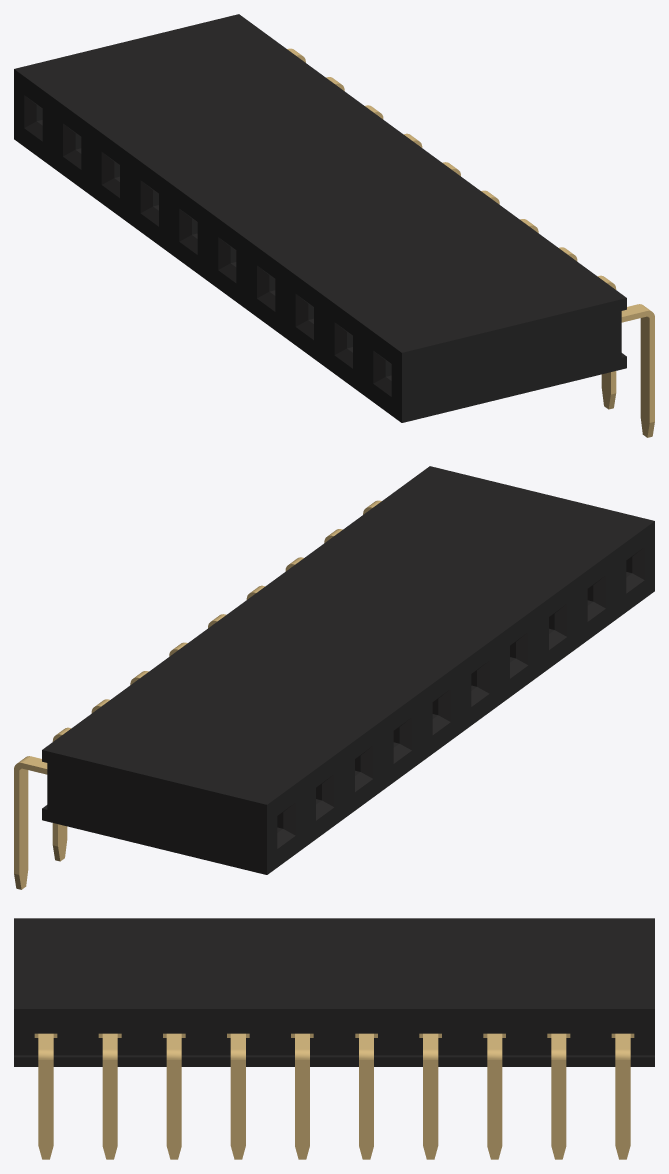
File: kc-pinsocket_1x10_p2.54mm_horizontal.glb
3 renders of one model, top to bottom at view 1: azimuth 30°, elevation 25°; view 2: azimuth 150°, elevation 25°; view 3: azimuth 270°, elevation 25°, orthographic. The views are drawn at different scales.
Visible parts, largest first — view 1: 0_0_0_0, 0.75_0.5_0.25_0.9; view 2: 0_0_0_0, 0.75_0.5_0.25_0.9; view 3: 0_0_0_0, 0.75_0.5_0.25_0.9.
Boxes of the visible parts, box(x1,y1,x2,y2) form: 0_0_0_0: box(14, 14, 626, 422); 0.75_0.5_0.25_0.9: box(287, 48, 654, 437); 0_0_0_0: box(42, 466, 654, 874); 0.75_0.5_0.25_0.9: box(14, 500, 381, 889); 0_0_0_0: box(14, 918, 654, 1066); 0.75_0.5_0.25_0.9: box(34, 1033, 634, 1159).
Bounding box in the file's own units: 1.01 × 0.584 × 2.54.
